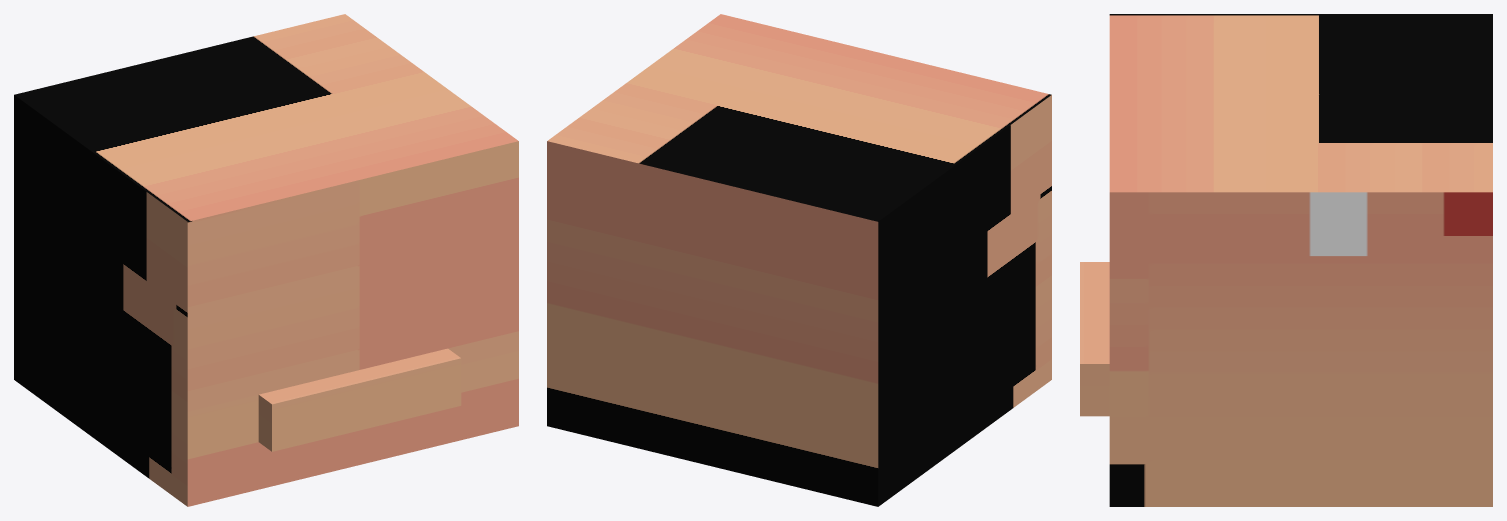
The model's file is Head002.fbx.
3 renders of one model, left to right at view 1: azimuth 30°, elevation 25°; view 2: azimuth 150°, elevation 25°; view 3: azimuth 270°, elevation 25°, orthographic. The views are drawn at different scales.
Visible parts, largest first — view 1: Head002; view 2: Head002; view 3: Head002.
Boxes of the visible parts, x1,y1,x2,y2 form: Head002: (14, 14, 518, 506); Head002: (547, 14, 1051, 506); Head002: (1080, 14, 1492, 506).
Size of the model in its own units: 14 by 11.52 by 13.7.
